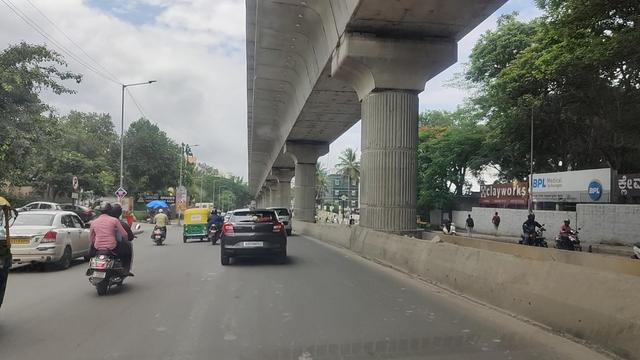LMV: (82, 194, 130, 310), (220, 208, 289, 268), (182, 208, 210, 241), (154, 207, 169, 242)
